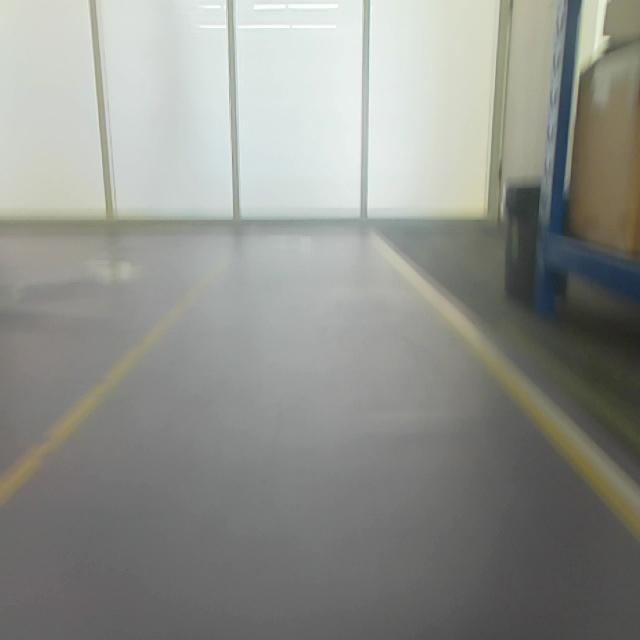left_lane: (2, 254, 230, 511)
right_lane: (375, 236, 640, 541)
